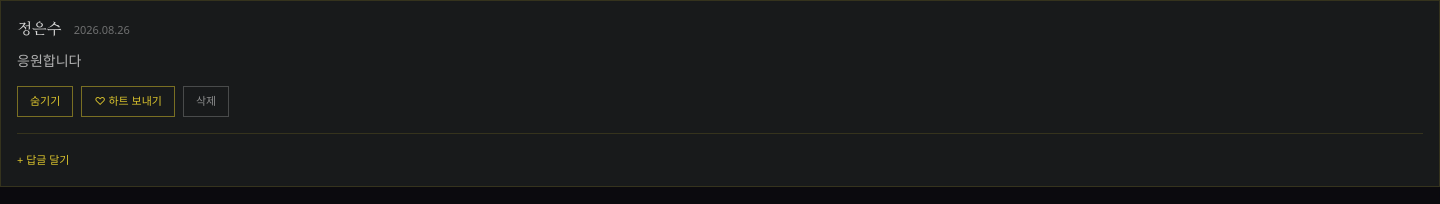
Test case: GuestbookAdmin › does not delete on the first click — it asks again
This screenshot has width=1440, height=204.
Click the button "삭제" at (206, 101), box 183,86 -> 229,117
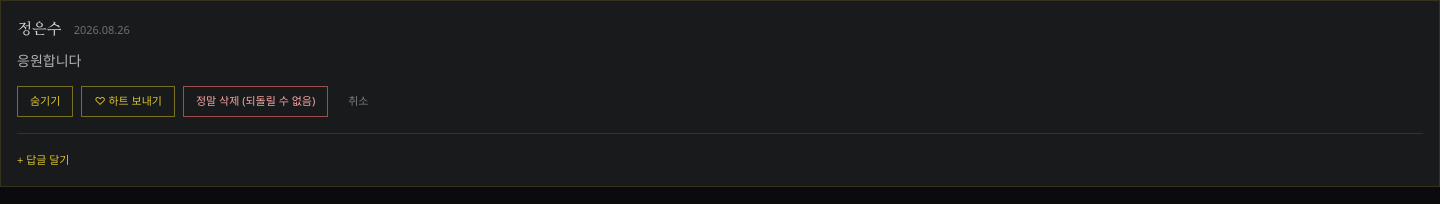
Now the button "정말 삭제 (되돌릴 수 없음)" is shown, box 183,86 -> 328,117
Click the button "취소" at (358, 101), box 336,87 -> 380,116
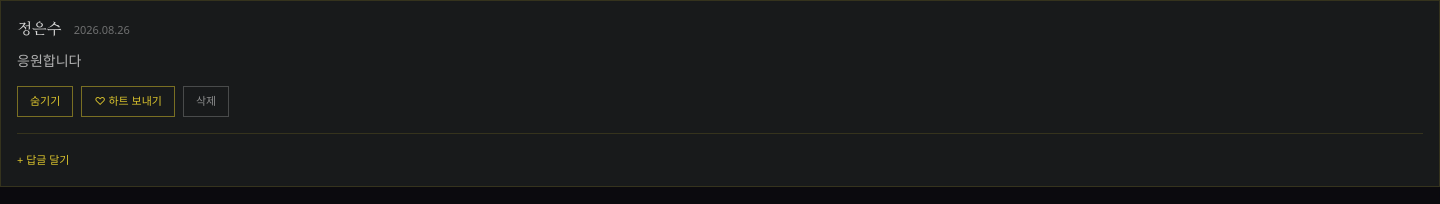
Now the button "정말 삭제" is gone
